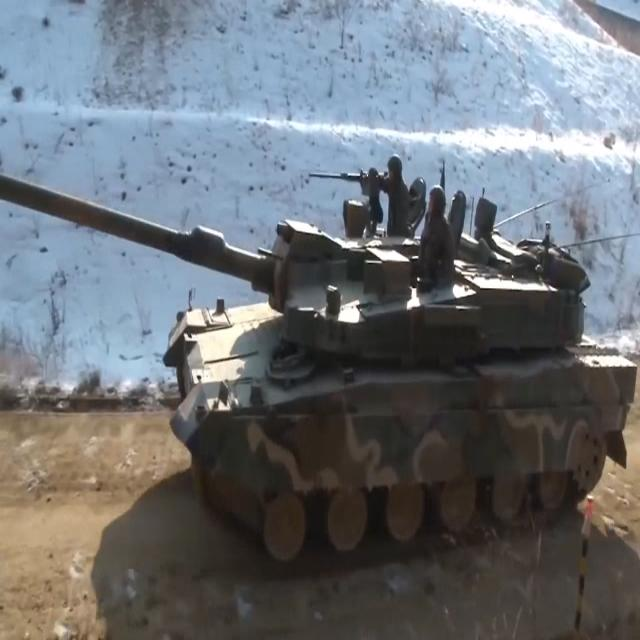korea tank: (0, 150, 640, 572)
